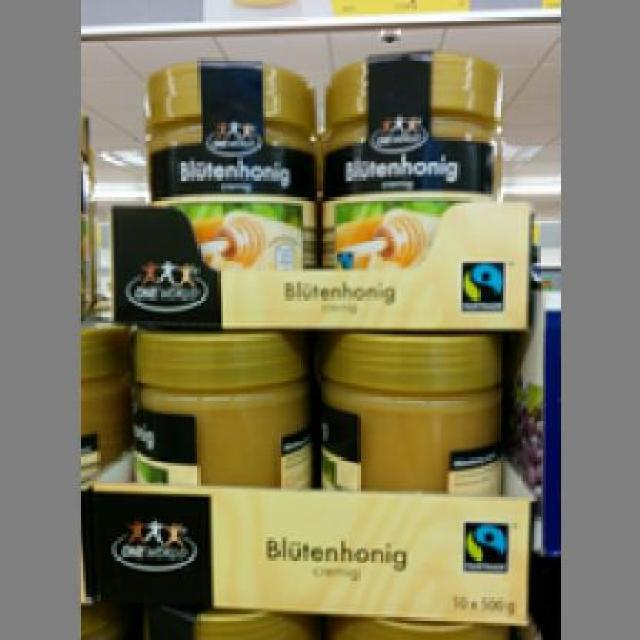Honey: (323, 328, 511, 492), (128, 326, 318, 486), (319, 51, 512, 198), (140, 57, 314, 194)
